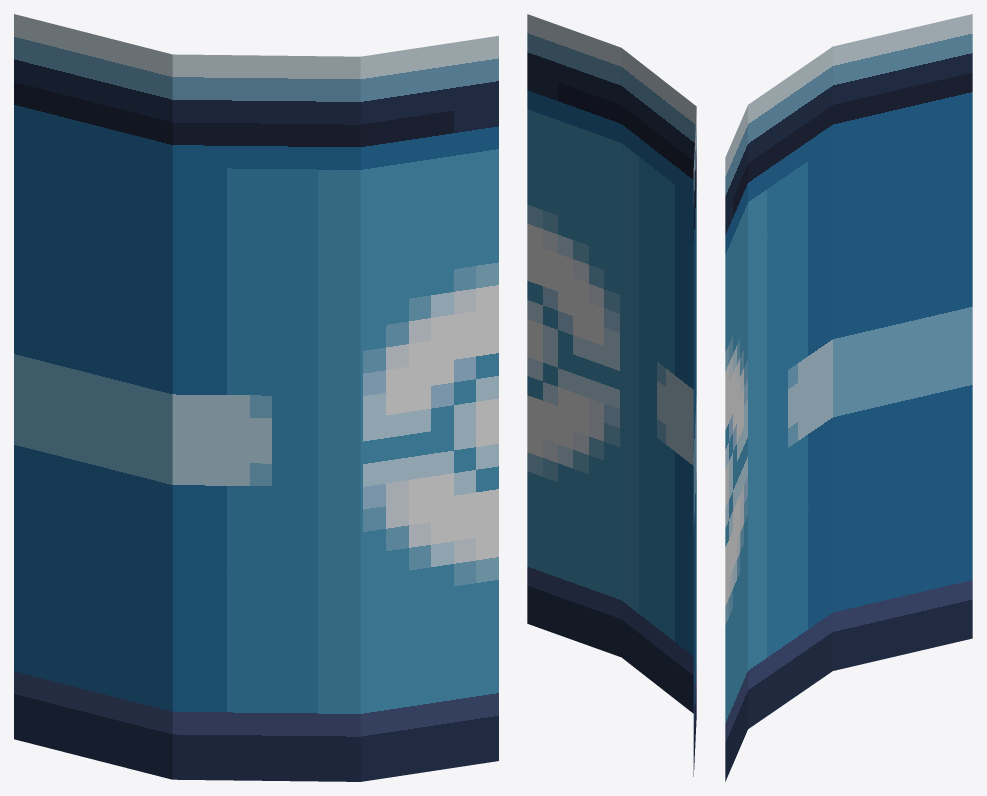
The model's file is PokeCenterDoorLeft.fbx.
3 renders of one model, left to right at view 1: azimuth 30°, elevation 25°; view 2: azimuth 150°, elevation 25°; view 3: azimuth 270°, elevation 25°, orthographic. The views are drawn at different scales.
Parts seen in each view (by area): view 1: polygon0; view 2: polygon0; view 3: polygon0.
Part boxes in pixels (left/top/right/bottom): polygon0: left=14, top=14, right=498, bottom=781; polygon0: left=527, top=14, right=696, bottom=776; polygon0: left=725, top=14, right=972, bottom=781.
Size of the model in its own units: 1.65 by 3.36 by 1.2.
